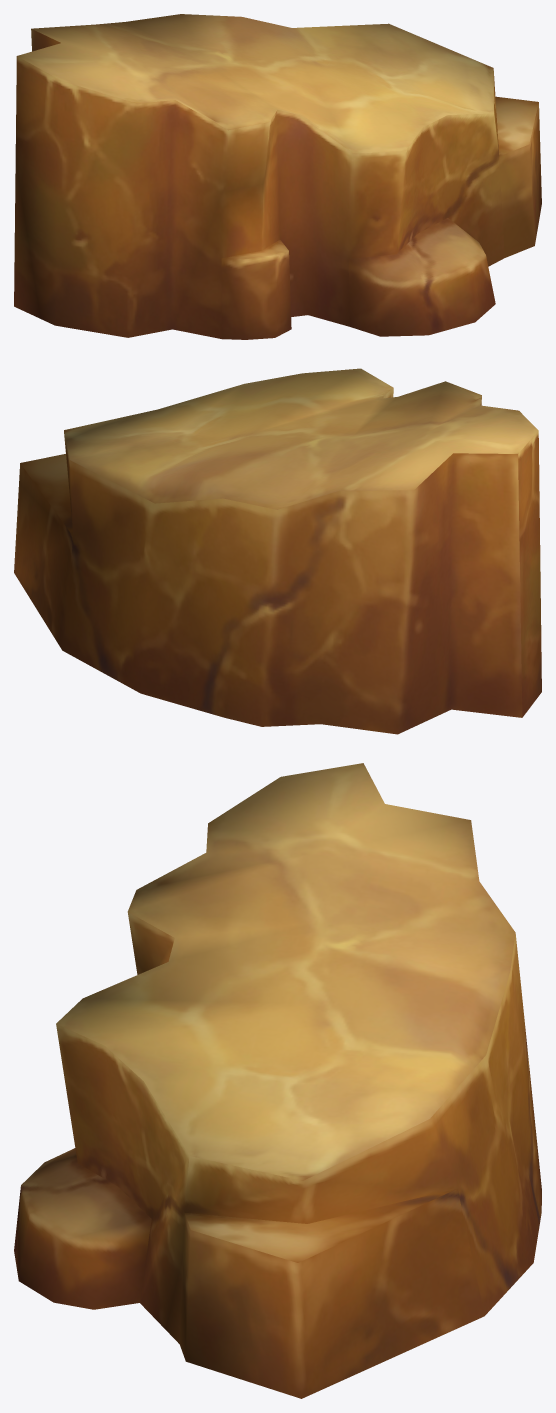
The model's file is Stage_ShaMo_ShiTou02.FBX.
The picture shows the model from 3 angles, top to bottom: view 1: azimuth 30°, elevation 25°; view 2: azimuth 150°, elevation 25°; view 3: azimuth 270°, elevation 25°; orthographic projection. The views are drawn at different scales.
Parts seen in each view (by area): view 1: Stage_ShaMo_ShiTou02; view 2: Stage_ShaMo_ShiTou02; view 3: Stage_ShaMo_ShiTou02.
Boxes of the visible parts, bbox=[...] form: Stage_ShaMo_ShiTou02: bbox=[14, 14, 541, 339]; Stage_ShaMo_ShiTou02: bbox=[14, 368, 541, 734]; Stage_ShaMo_ShiTou02: bbox=[14, 763, 541, 1398].
Size of the model in its own units: 831 by 397 by 588.
